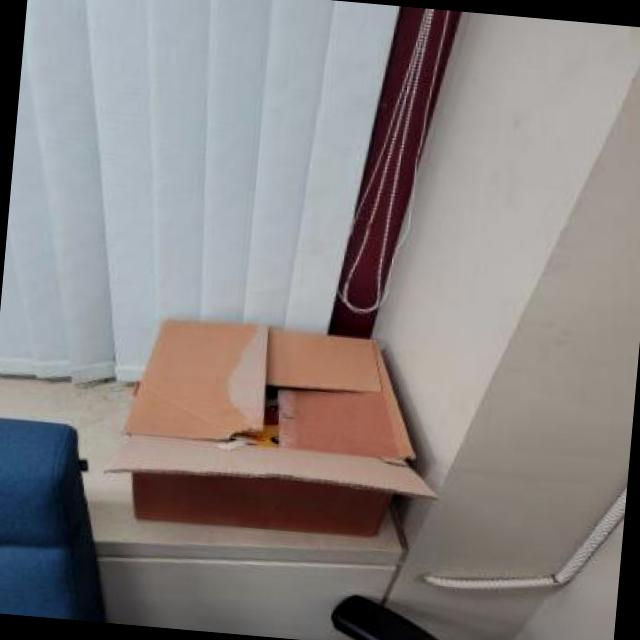box: (93, 296, 474, 570)
